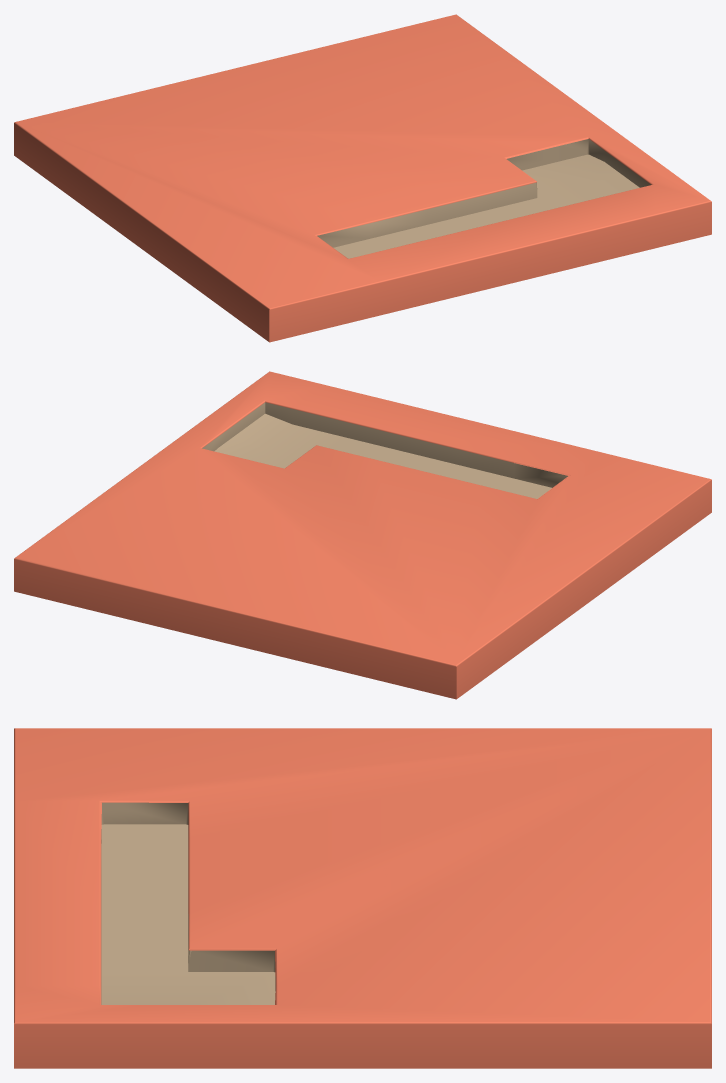
The model's file is terreno new.fbx.
The picture shows the model from 3 angles, top to bottom: view 1: azimuth 30°, elevation 25°; view 2: azimuth 150°, elevation 25°; view 3: azimuth 270°, elevation 25°; orthographic projection. The views are drawn at different scales.
Visible parts, largest first — view 1: Terreno; view 2: Terreno; view 3: Terreno.
Boxes of the visible parts, bbox=[...] form: Terreno: bbox=[14, 14, 711, 342]; Terreno: bbox=[14, 371, 711, 699]; Terreno: bbox=[14, 728, 711, 1068].
Size of the model in its own units: 110 by 8 by 110.
